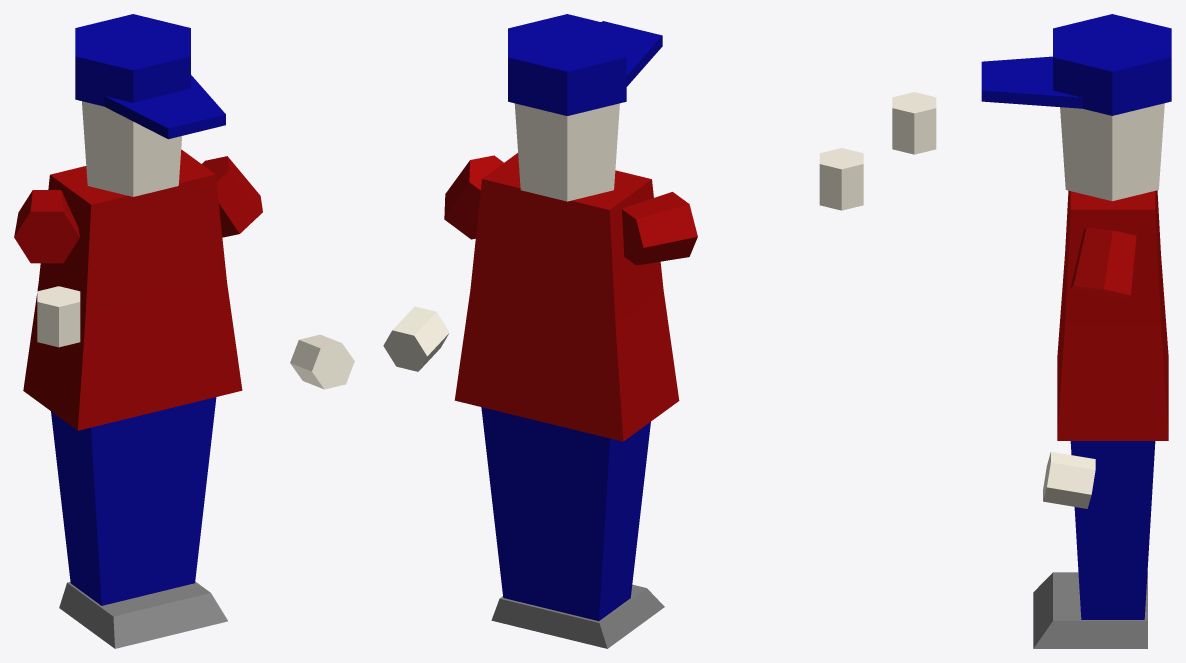
Rendered from Character.fbx.
3 views of the same model, side by side, from view 1: azimuth 30°, elevation 25°; view 2: azimuth 150°, elevation 25°; view 3: azimuth 270°, elevation 25° (orthographic). The views are drawn at different scales.
Visible parts, largest first — view 1: group_5; view 2: group_5; view 3: group_5.
Boxes of the visible parts, x1=… form: group_5: x1=14, y1=14, x2=354, y2=648; group_5: x1=383, y1=14, x2=863, y2=648; group_5: x1=892, y1=14, x2=1171, y2=648.
Bounding box in the file's own units: 139 × 196 × 85.73.
